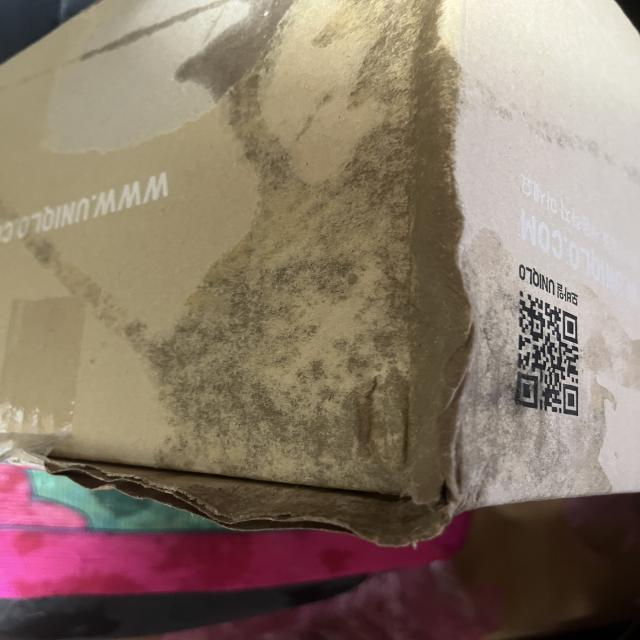wet: (187, 52, 485, 532)
